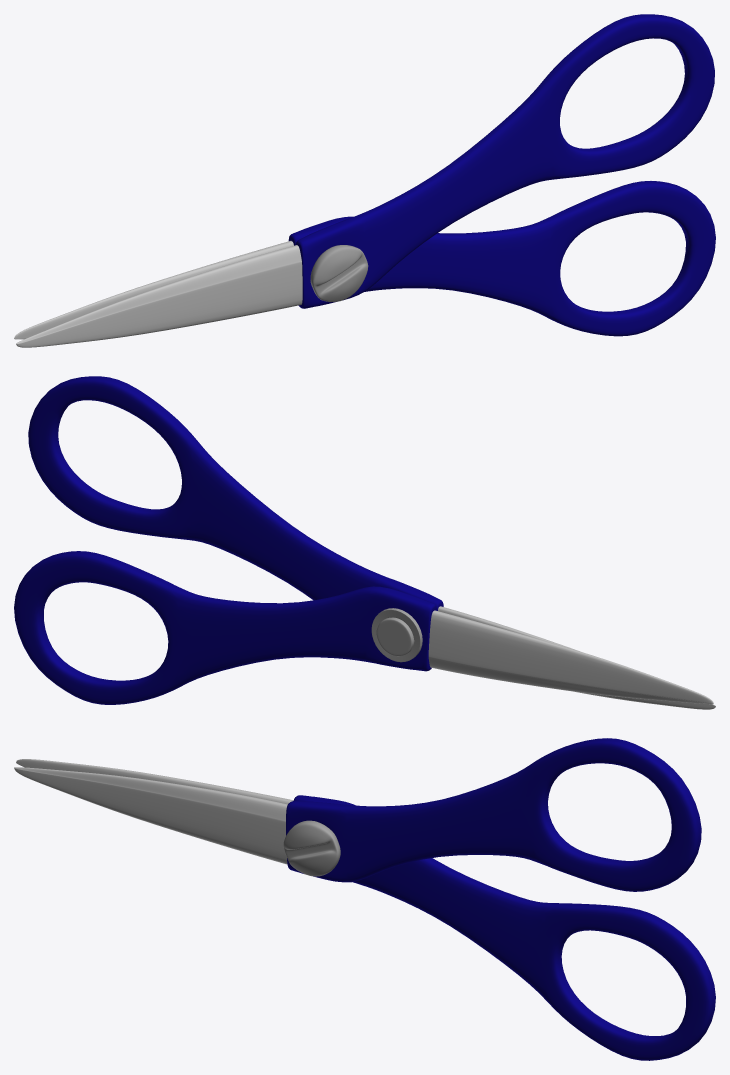
File: Scissor.fbx
3 renders of one model, top to bottom at view 1: azimuth 30°, elevation 25°; view 2: azimuth 150°, elevation 25°; view 3: azimuth 330°, elevation 25°, orthographic.
Parts seen in each view (by area): view 1: UpperH, DownH, UpperC, Screw, DownC; view 2: DownH, UpperH, DownC, UpperC, Screw, Pin; view 3: UpperH, DownH, UpperC, Screw, DownC.
Part boxes in pixels (x1,y1,x2,y2): UpperH: (295,14,714,308); DownH: (288,181,715,336); UpperC: (16,245,302,347); Screw: (310,245,368,301); DownC: (14,241,293,339); DownH: (14,551,436,704); UpperH: (28,376,443,610); DownC: (428,610,713,704); UpperC: (438,606,715,709); Screw: (376,617,414,656); Pin: (371,608,422,662); UpperH: (286,738,701,891); DownH: (293,795,715,1060); UpperC: (14,767,287,864); Screw: (283,820,340,876); DownC: (16,759,293,804).
Size of the model in its own units: 9.84 by 4.32 by 0.6955.
